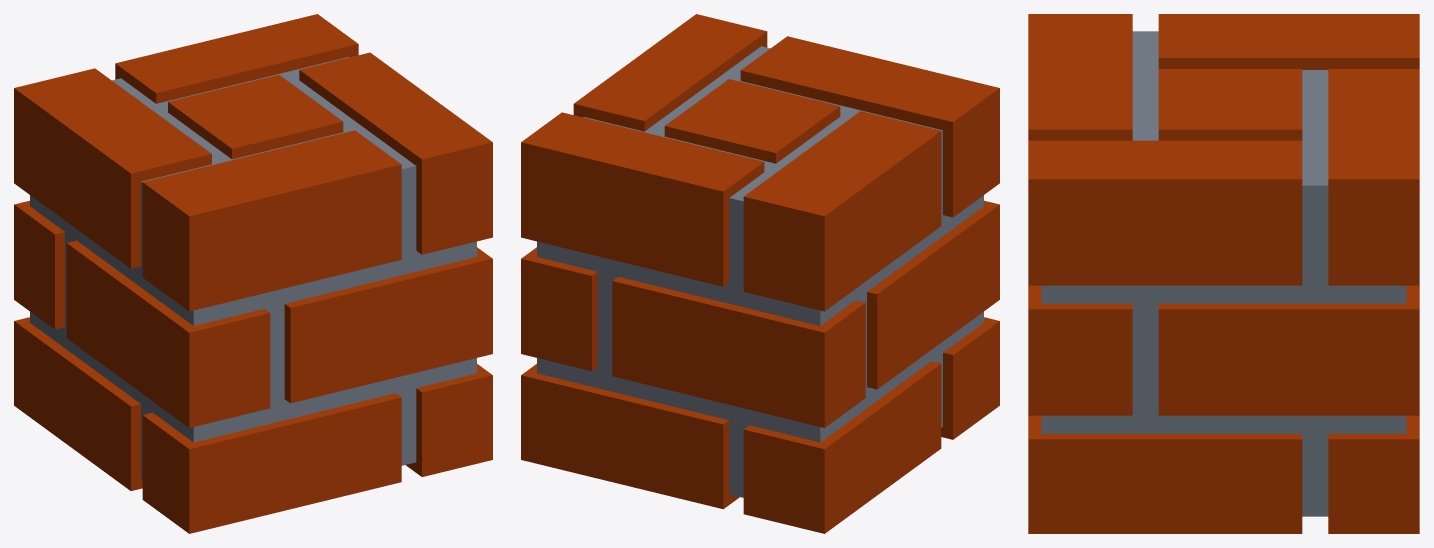
The model's file is wall.obj.
3 views of the same model, side by side, from view 1: azimuth 30°, elevation 25°; view 2: azimuth 150°, elevation 25°; view 3: azimuth 270°, elevation 25° (orthographic). The views are drawn at different scales.
Size of the model in its own units: 3 by 3 by 3.
Materials: 1 (1 with a texture image).
